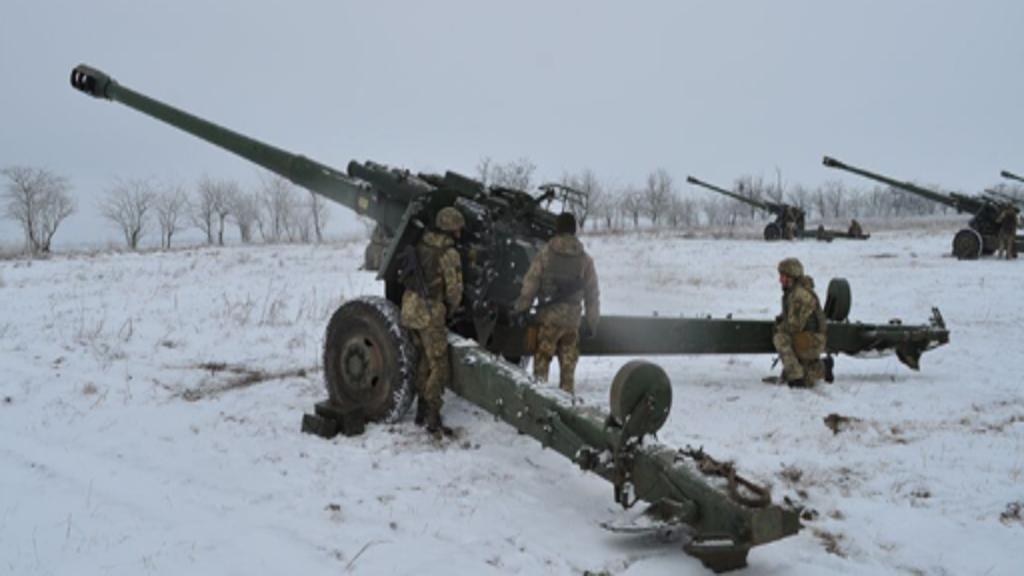ART: (68, 58, 952, 563), (820, 154, 1022, 263), (684, 172, 868, 242)
